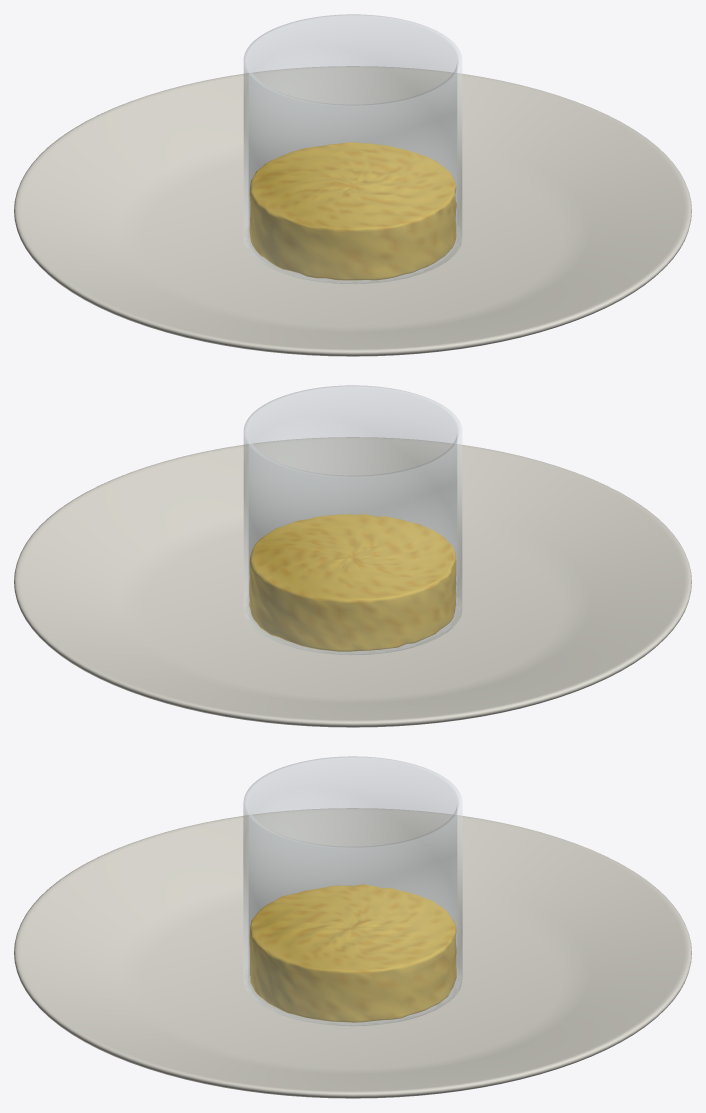
File: paso-3.glb
3 views of the same model, one above another, from view 1: azimuth 30°, elevation 25°; view 2: azimuth 150°, elevation 25°; view 3: azimuth 270°, elevation 25° (orthographic).
Parts seen in each view (by area): view 1: paso-3-0, paso-3-2, paso-3-1; view 2: paso-3-0, paso-3-2, paso-3-1; view 3: paso-3-0, paso-3-2, paso-3-1.
Part boxes in pixels (left/top/right/bottom): paso-3-0: left=14, top=66, right=691, bottom=356; paso-3-2: left=244, top=14, right=461, bottom=283; paso-3-1: left=249, top=142, right=456, bottom=280; paso-3-0: left=14, top=437, right=691, bottom=727; paso-3-2: left=244, top=385, right=461, bottom=654; paso-3-1: left=249, top=514, right=456, bottom=651; paso-3-0: left=14, top=808, right=691, bottom=1098; paso-3-2: left=243, top=756, right=462, bottom=1025; paso-3-1: left=249, top=884, right=456, bottom=1022.
Size of the model in its own units: 0.26 by 0.081 by 0.26.
